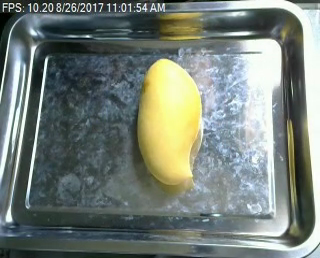Mango: (126, 56, 211, 188)
